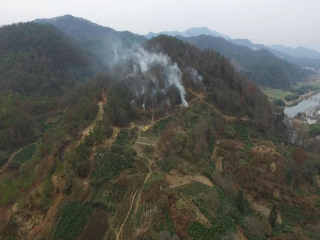smoke: (105, 37, 204, 112)
